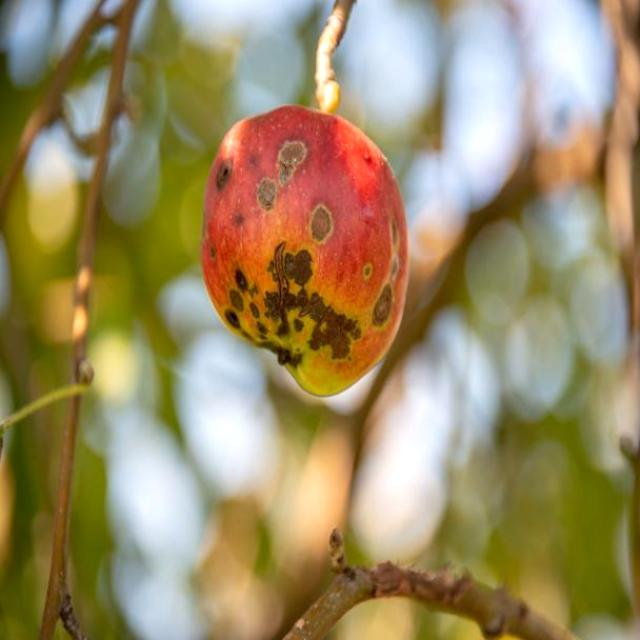SCAB: (194, 92, 417, 400)
